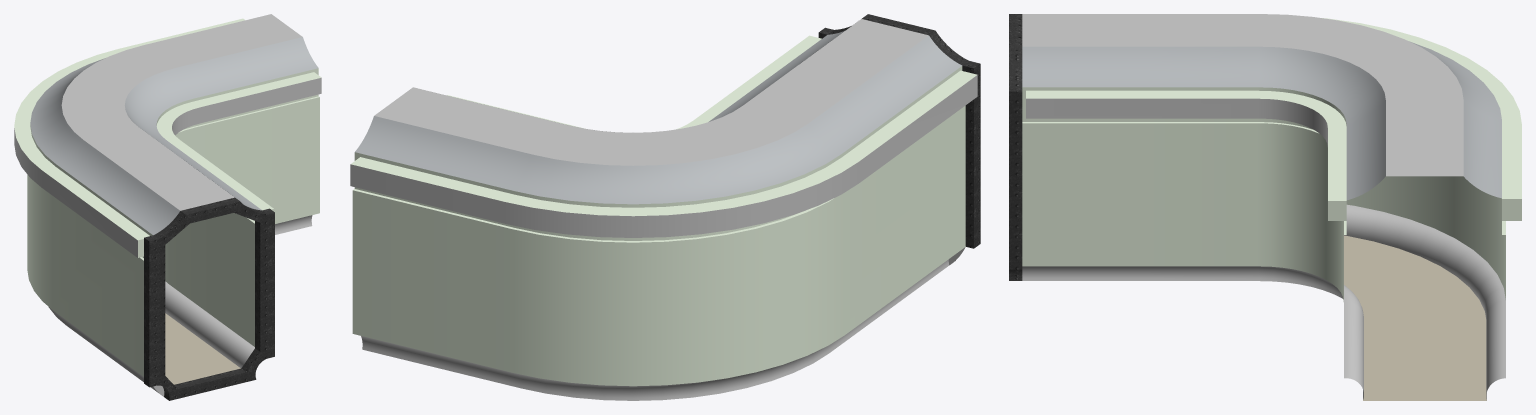
The model's file is curva1.fbx.
3 views of the same model, side by side, from view 1: azimuth 30°, elevation 25°; view 2: azimuth 150°, elevation 25°; view 3: azimuth 270°, elevation 25° (orthographic). The views are drawn at different scales.
Parts seen in each view (by area): view 1: Model; view 2: Model; view 3: Model.
Part boxes in pixels (<box>): Model: <box>14,14,321,400</box>; Model: <box>350,14,980,400</box>; Model: <box>1009,14,1521,400</box>.
Bounding box in the file's own units: 4.7 × 2.63 × 5.45.
